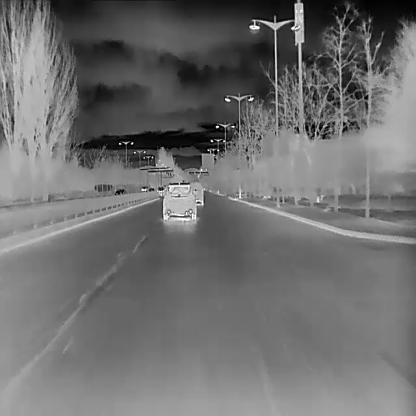car: (162, 180, 198, 221), (187, 180, 205, 204), (156, 184, 166, 196), (113, 188, 127, 196), (147, 187, 155, 192)
truck: (139, 185, 148, 192)
